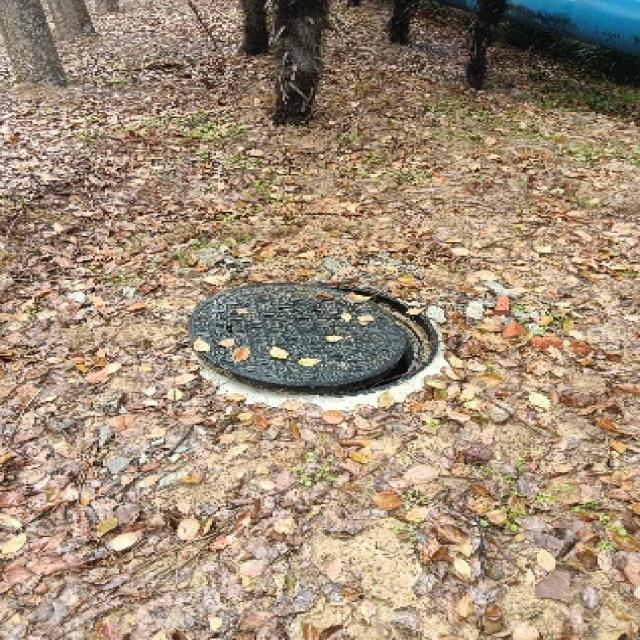Faulty: (170, 265, 473, 425)
